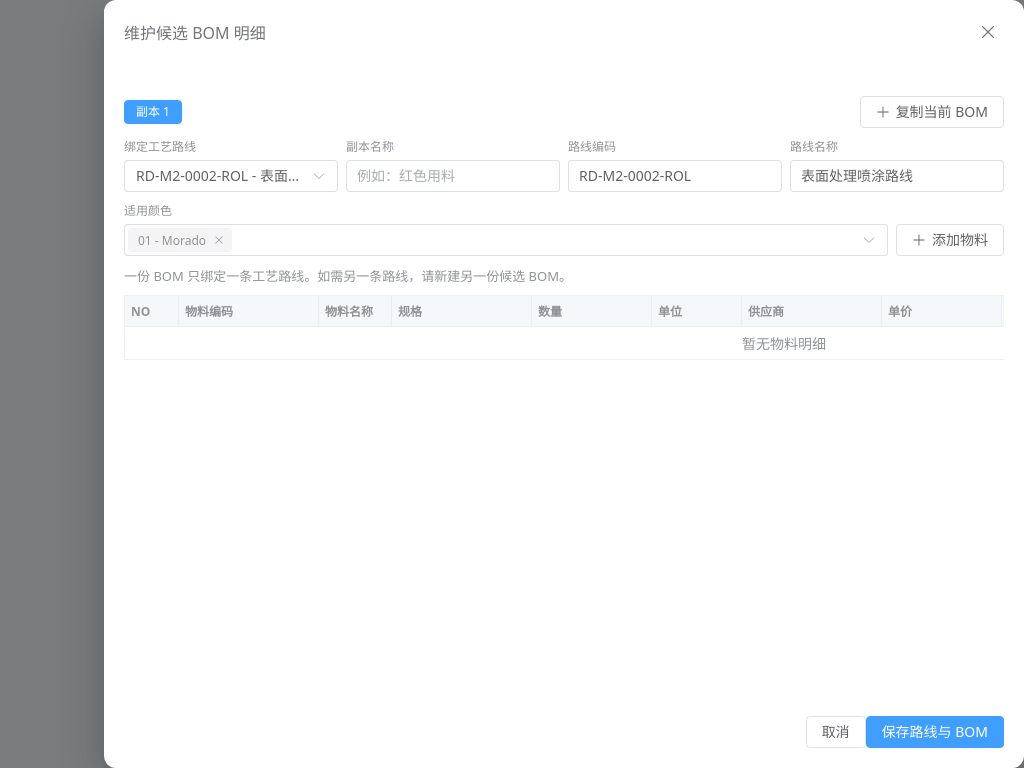
Test case: BomRouteEditor › renders a single existing route selector, color select and automatic line numbers
Check: the element with test id "route-color-select" is shown, box [124, 224, 888, 256]
Click the button with test id "route-item-add": coordinates (950, 240) [896, 224, 1004, 256]
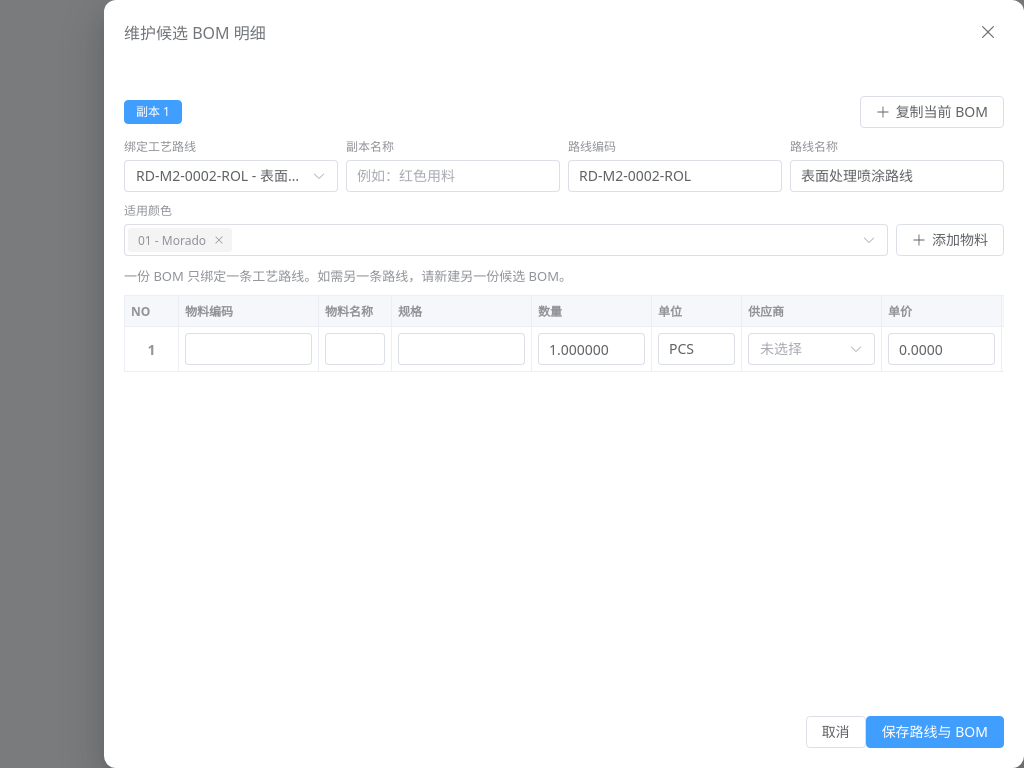
Check: the cell with test id "route-item-line-no" reads "1", box [148, 340, 156, 358]
